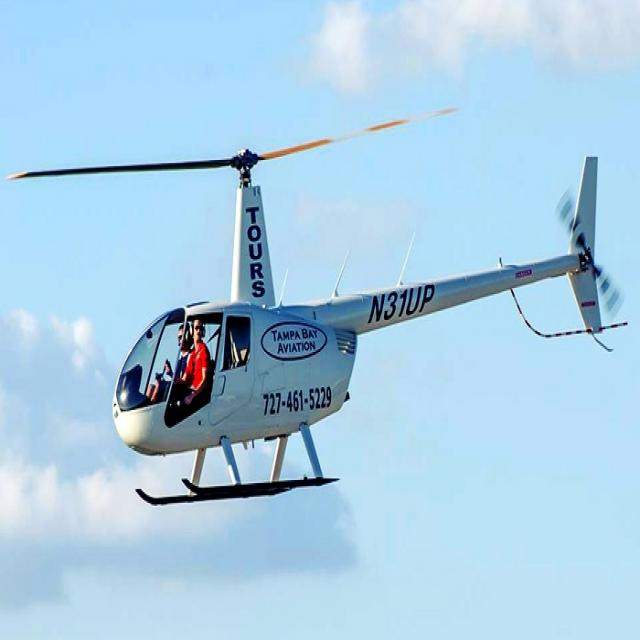helicopter: (2, 100, 628, 507)
